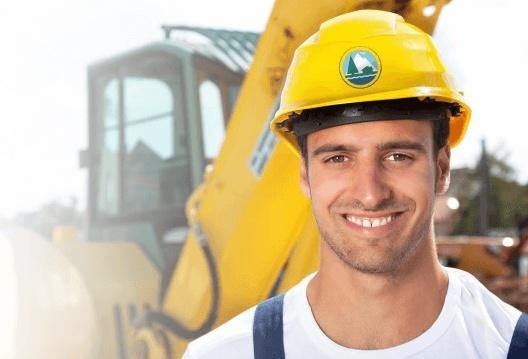helmet: (272, 10, 473, 163)
